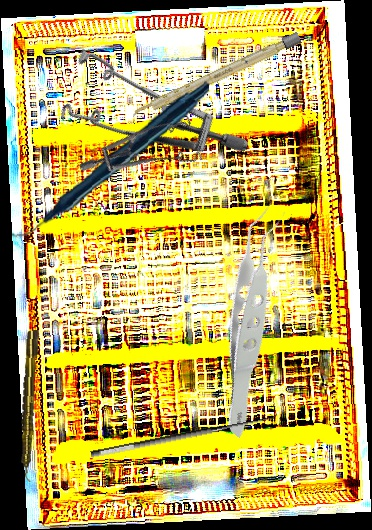Handpiece: (4, 80, 217, 240), (18, 329, 40, 483)
Hook Surgical: (87, 400, 279, 460)
Scalpel Handle: (130, 31, 302, 121)
Speculum: (35, 2, 251, 228), (77, 88, 217, 225)
Tissue Forceps: (142, 199, 368, 440)
